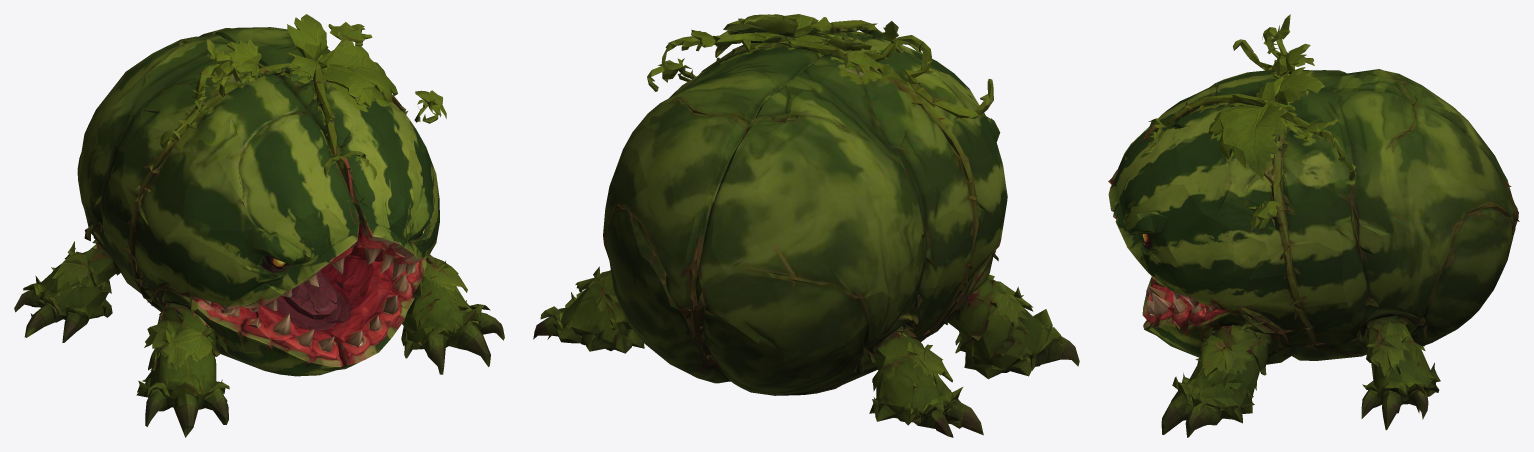
File: watermelon.glb
3 views of the same model, side by side, from view 1: azimuth 30°, elevation 25°; view 2: azimuth 150°, elevation 25°; view 3: azimuth 270°, elevation 25° (orthographic). The views are drawn at different scales.
Visible parts, largest first — view 1: watermelon; view 2: watermelon; view 3: watermelon.
Boxes of the visible parts, x1=… form: watermelon: x1=14, y1=14, x2=504, y2=437; watermelon: x1=533, y1=14, x2=1079, y2=437; watermelon: x1=1108, y1=14, x2=1519, y2=437.
Bounding box in the file's own units: 2.61 × 2.1 × 2.45.
1 material, 1 textured.
